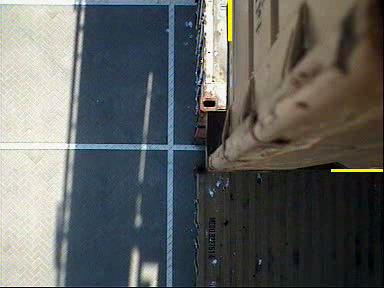groundmarker_2: (89, 39, 183, 113)
